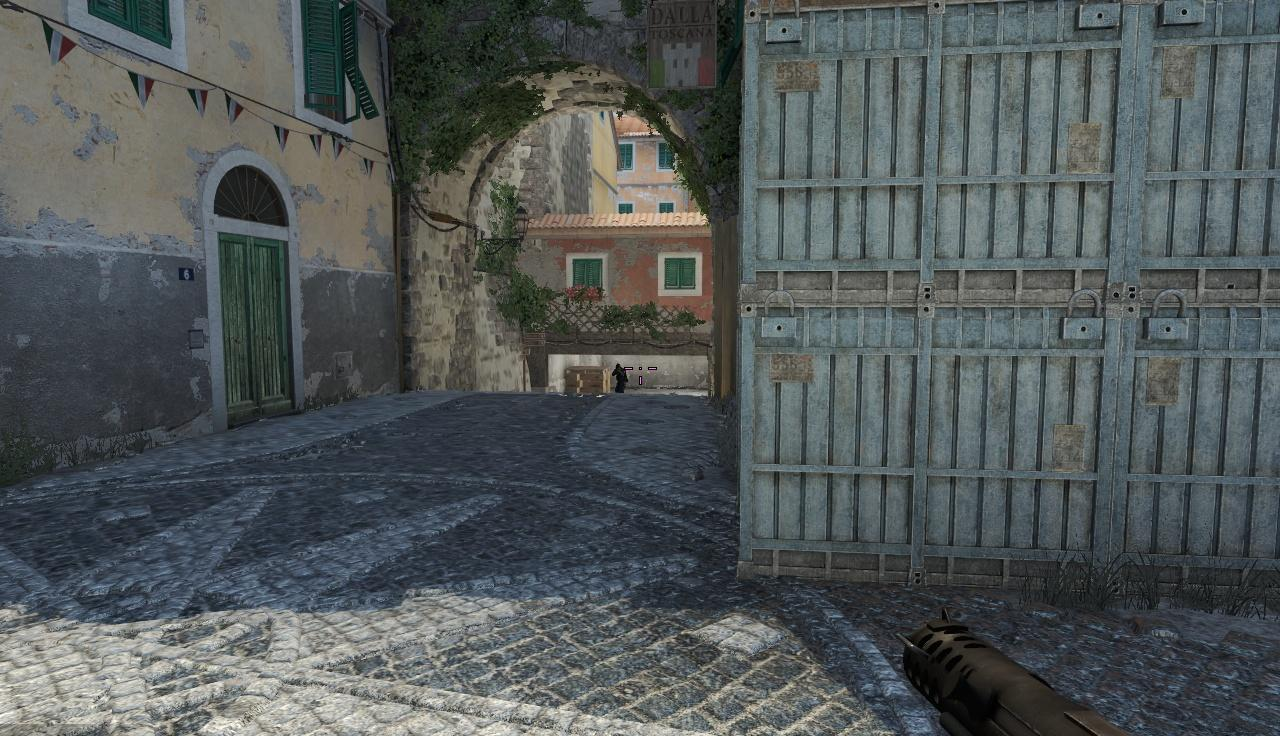ct: (613, 363, 630, 393)
cthead: (616, 364, 622, 371)
pistol: (903, 608, 1168, 735)
